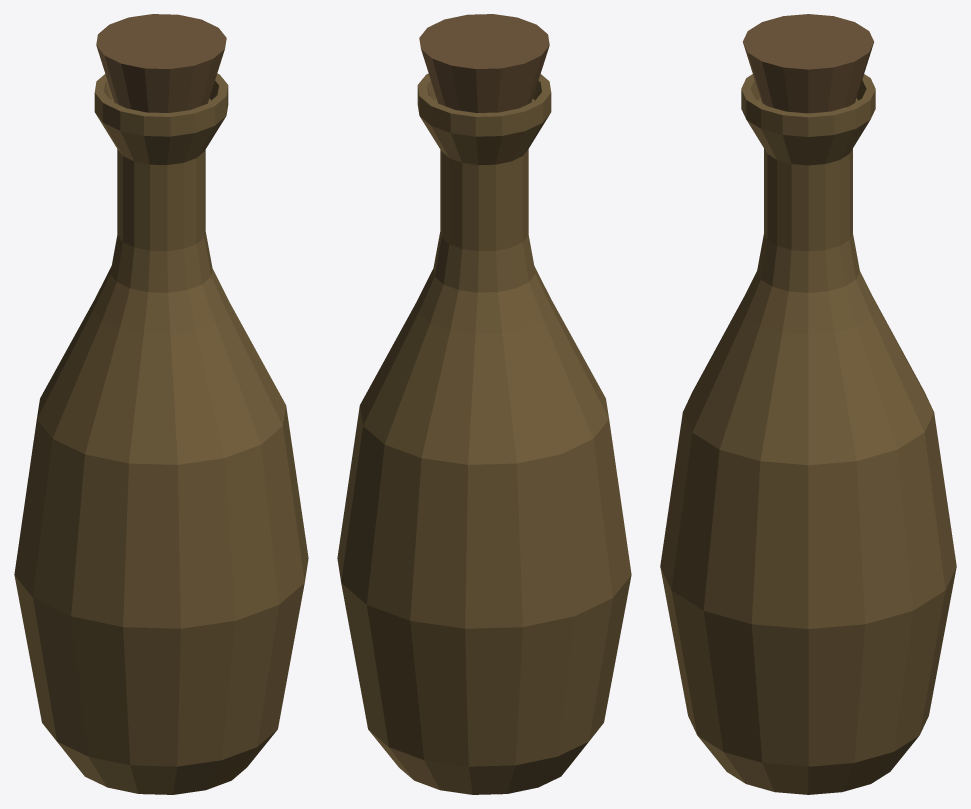
File: Wine bottle_2.fbx
3 views of the same model, side by side, from view 1: azimuth 30°, elevation 25°; view 2: azimuth 150°, elevation 25°; view 3: azimuth 270°, elevation 25° (orthographic).
Visible parts, largest first — view 1: Wine bottle_2; view 2: Wine bottle_2; view 3: Wine bottle_2.
Part boxes in pixels (box(x1,y1,x2,y2)): Wine bottle_2: box(14, 14, 308, 794); Wine bottle_2: box(337, 14, 631, 794); Wine bottle_2: box(660, 14, 956, 794).
Bounding box in the file's own units: 27.55 × 73.38 × 27.55.
